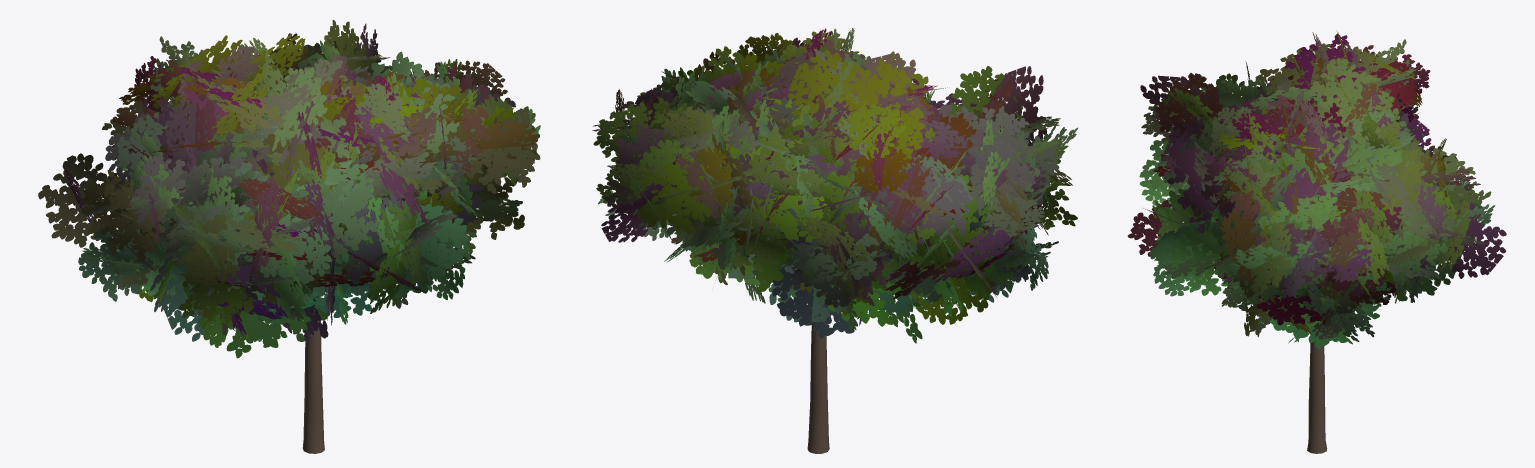
The model's file is tree_small_broadleaf_v4_full_b.glb.
3 renders of one model, left to right at view 1: azimuth 30°, elevation 25°; view 2: azimuth 150°, elevation 25°; view 3: azimuth 270°, elevation 25°, orthographic. The views are drawn at different scales.
Visible parts, largest first — view 1: SmallBroadleafV4Full_offset_Foliage_15HierarchicalGroups, SmallBroadleafV4Full_offset_Trunk_Stylized; view 2: SmallBroadleafV4Full_offset_Foliage_15HierarchicalGroups, SmallBroadleafV4Full_offset_Trunk_Stylized; view 3: SmallBroadleafV4Full_offset_Foliage_15HierarchicalGroups, SmallBroadleafV4Full_offset_Trunk_Stylized.
Boxes of the visible parts, x1,y1,x2,y2 form: SmallBroadleafV4Full_offset_Foliage_15HierarchicalGroups: (38,19,540,358); SmallBroadleafV4Full_offset_Trunk_Stylized: (302,296,324,453); SmallBroadleafV4Full_offset_Foliage_15HierarchicalGroups: (592,28,1077,343); SmallBroadleafV4Full_offset_Trunk_Stylized: (807,316,829,453); SmallBroadleafV4Full_offset_Foliage_15HierarchicalGroups: (1127,30,1506,348); SmallBroadleafV4Full_offset_Trunk_Stylized: (1307,335,1327,453).
Size of the model in its own units: 6.94 by 6.18 by 5.75.
2 materials, 1 textured.
